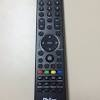remote control: (36, 2, 67, 100)
